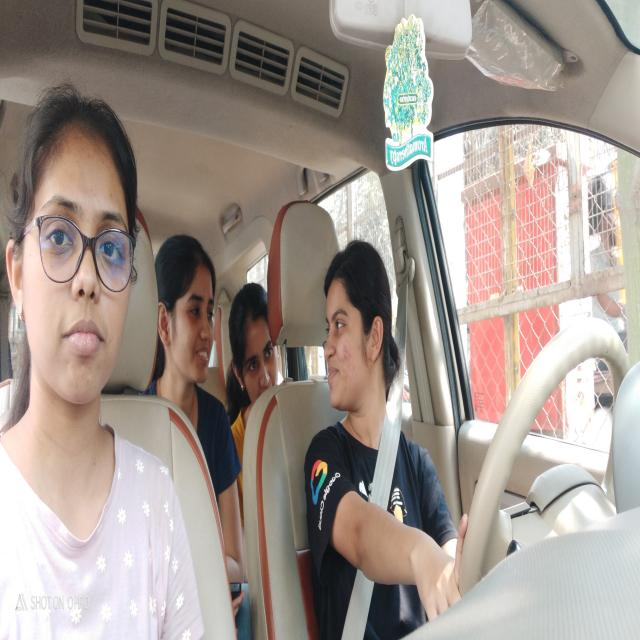LeftRight: (318, 232, 394, 420)
person: (9, 82, 132, 404), (154, 231, 220, 391), (228, 268, 277, 407)
